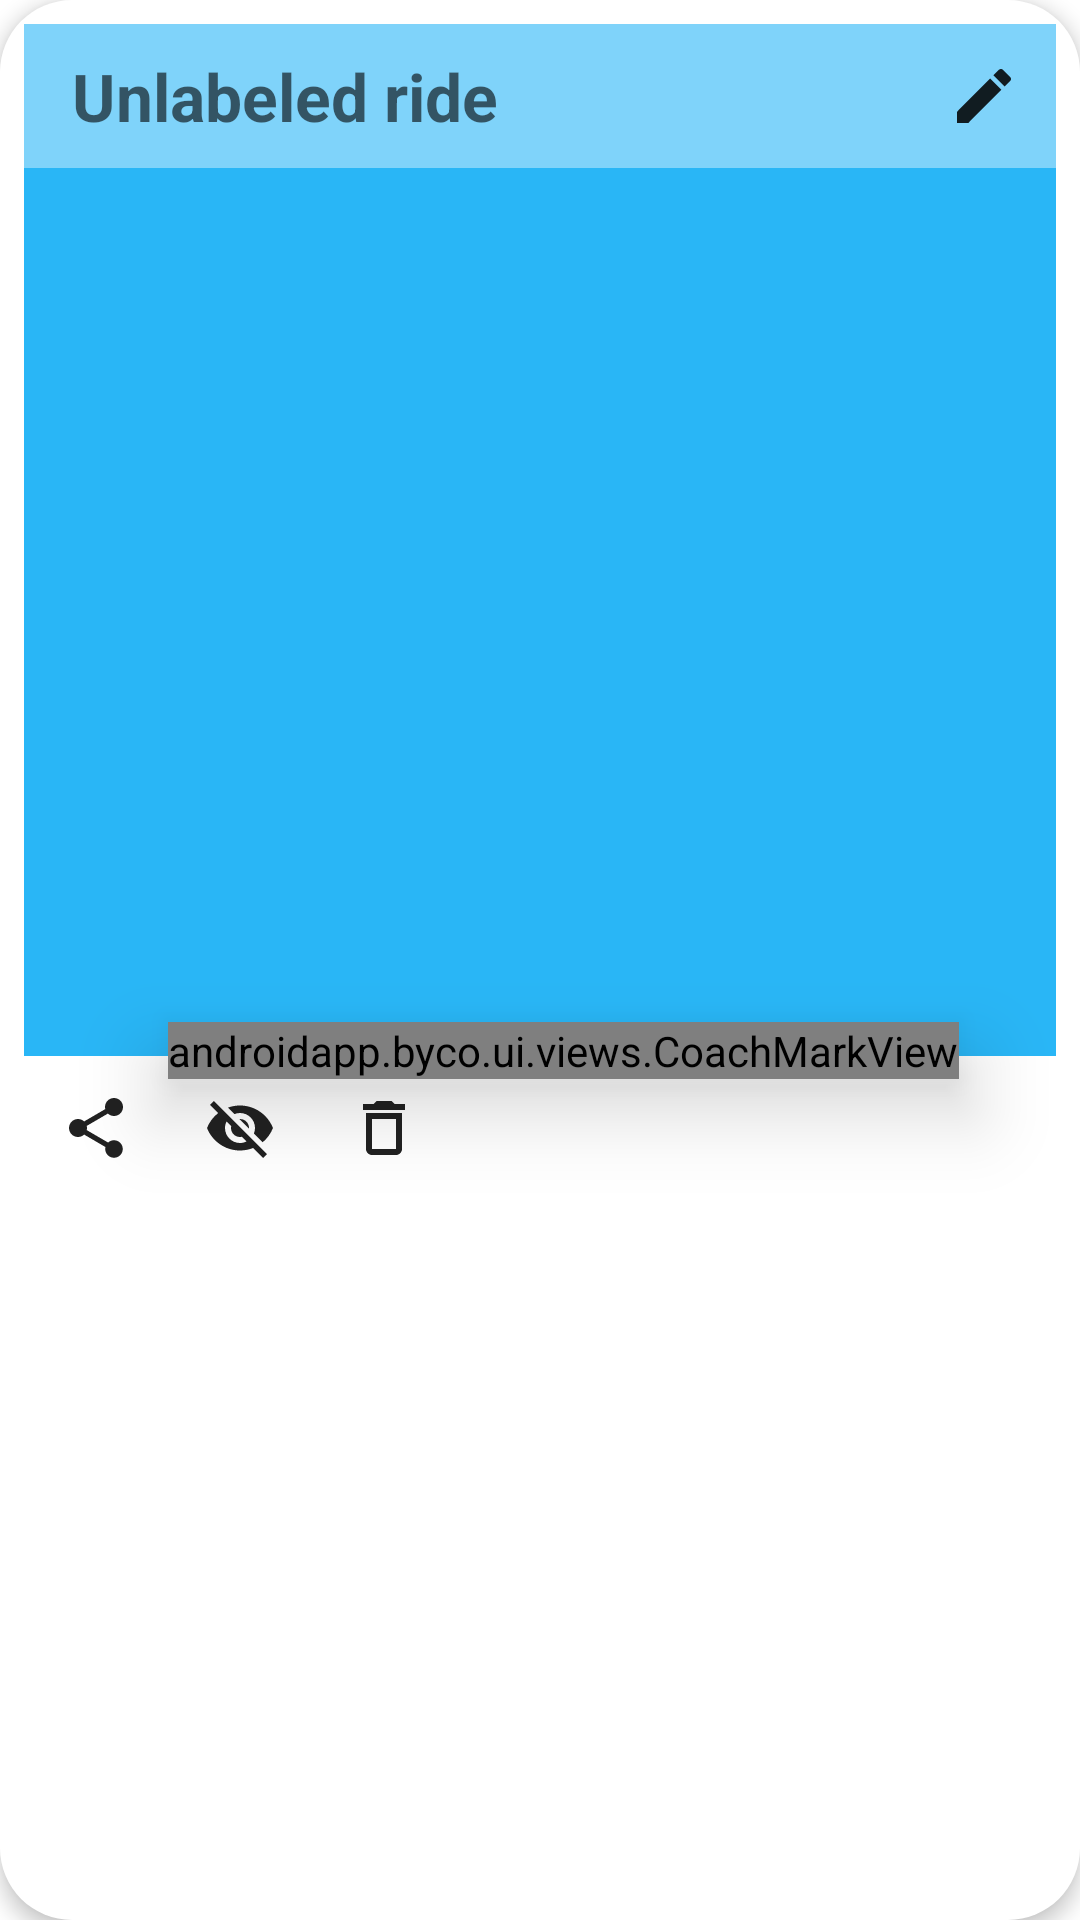

Named icons in this screenshot (1080×1920) and their bounding boxes, [x1,y1,x2,y2]:
Share: [69,1098,123,1158]
